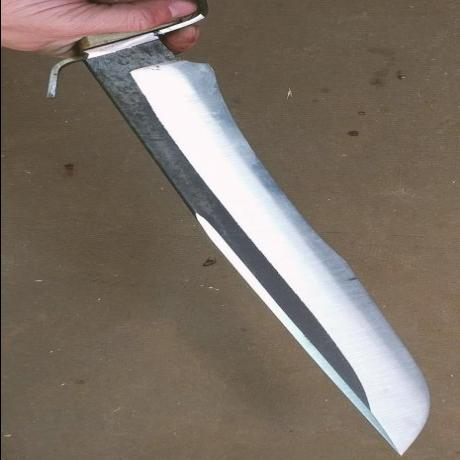weapon: (70, 36, 458, 458)
